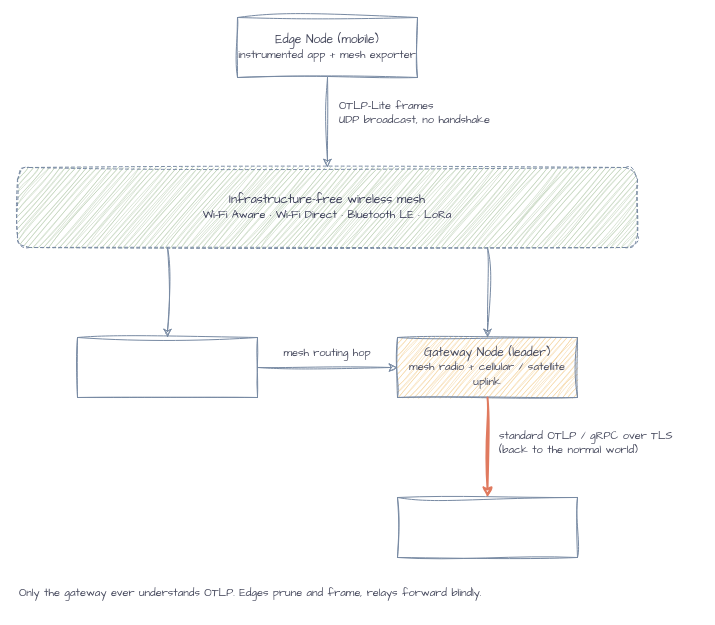
The diagram is 715 pixels wide and 625 high, and some of its shapes have lost their labels. The shapes that lost their labels are listed below. From the top down, each one's centre as x and y in pixels, then its label:
At (167,367): "Relay Node (peer) stores & forwards, never decodes".
At (487,527): "Cloud Backend Jaeger · Grafana · Mimir".
